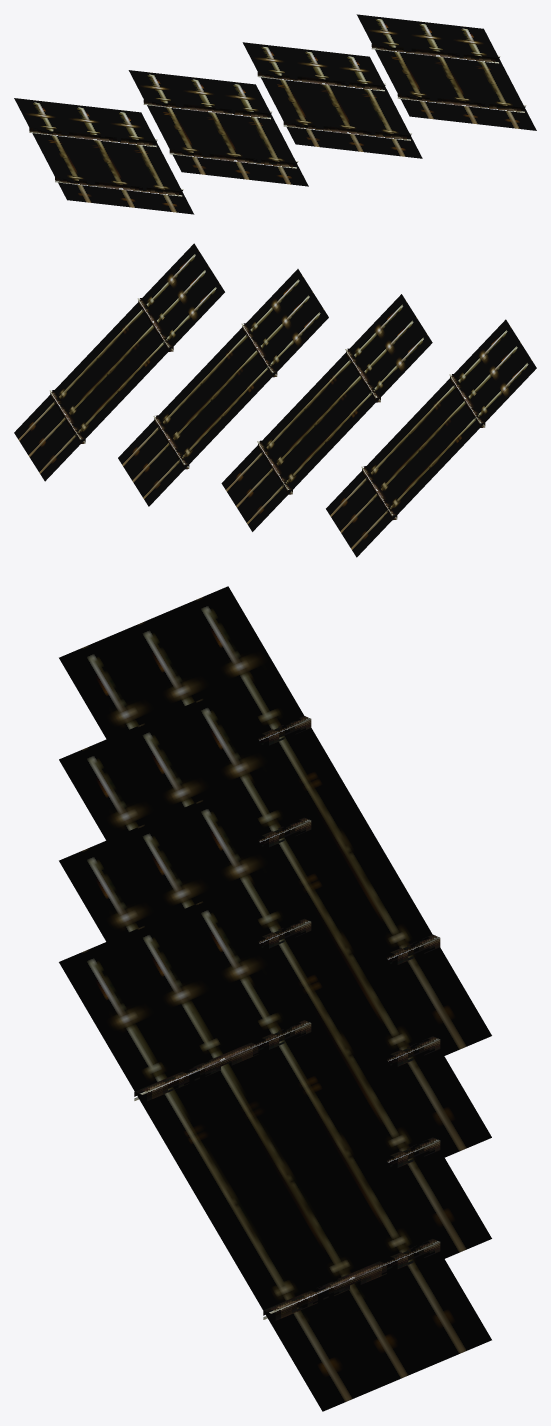
File: SteelWall02.obj
The picture shows the model from 3 angles, top to bottom: view 1: azimuth 30°, elevation 25°; view 2: azimuth 150°, elevation 25°; view 3: azimuth 270°, elevation 25°; orthographic projection. The views are drawn at different scales.
Parts seen in each view (by area): view 1: Mesh_1, Mesh_0; view 2: Mesh_1, Mesh_0; view 3: Mesh_1, Mesh_0.
Part boxes in pixels (x1,y1,x2,y2): Mesh_1: (14,14,536,214); Mesh_0: (29,44,526,196); Mesh_1: (14,243,536,557); Mesh_0: (49,298,485,520); Mesh_1: (59,586,491,1411); Mesh_0: (134,716,440,1320).
Bounding box in the file's own units: 4.81 × 1.56 × 1.81.
Materials: 2 (2 with a texture image).
